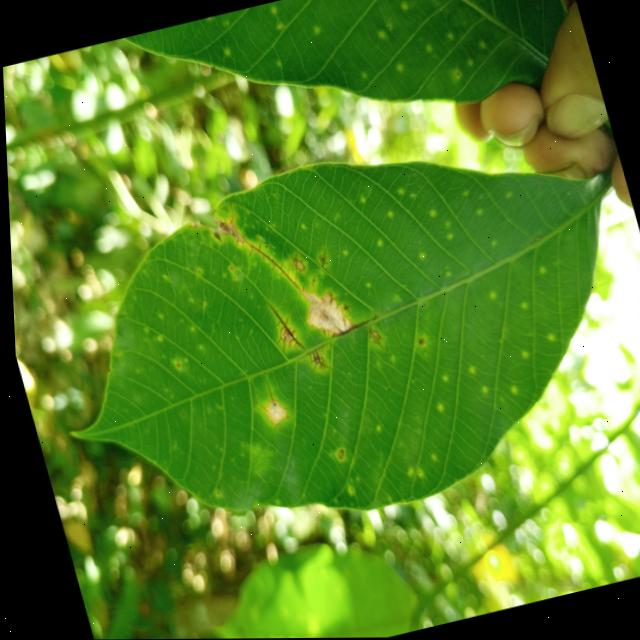Corynespora: (235, 222, 303, 305), (262, 295, 302, 355), (293, 341, 332, 374), (326, 313, 375, 338), (362, 321, 382, 351), (311, 248, 329, 275), (222, 203, 235, 224), (287, 252, 300, 271), (262, 381, 272, 405), (321, 289, 336, 303)
Leaf-Blight: (298, 283, 351, 338), (209, 208, 242, 246), (261, 398, 284, 424)
